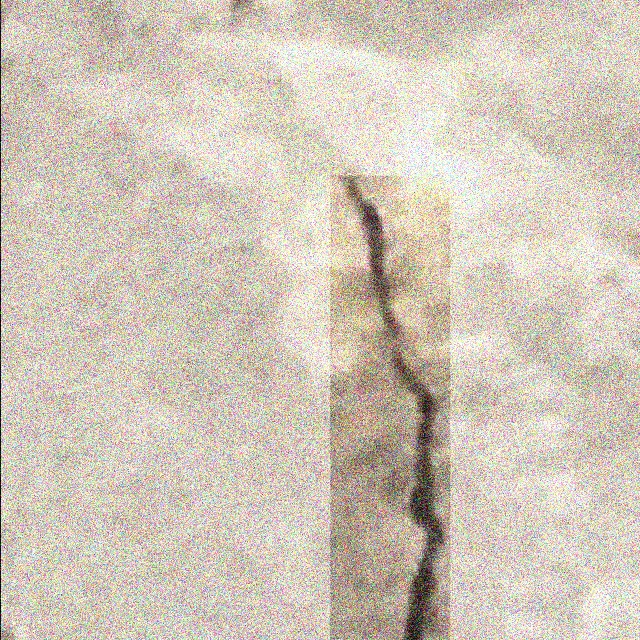SurfaceCrack: (330, 182, 454, 640)
